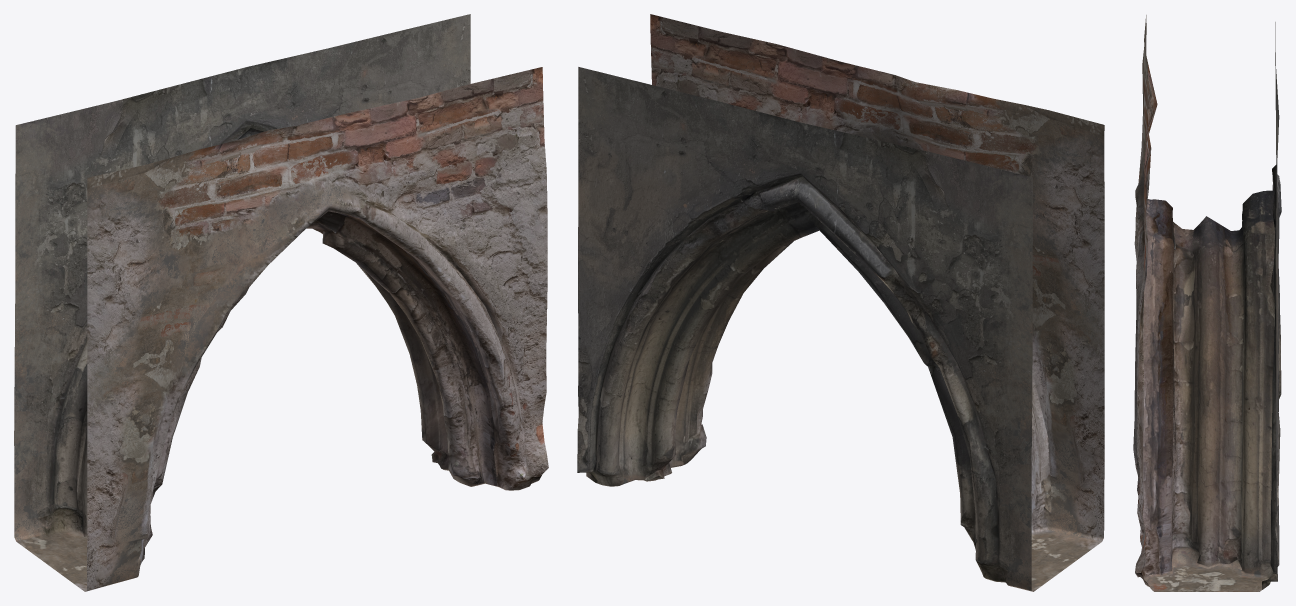
The model's file is SM_ChapelArch_01_05.fbx.
3 renders of one model, left to right at view 1: azimuth 30°, elevation 25°; view 2: azimuth 150°, elevation 25°; view 3: azimuth 270°, elevation 25°, orthographic. The views are drawn at different scales.
Parts seen in each view (by area): view 1: sm_ChapelArch_01_05_LOD0; view 2: sm_ChapelArch_01_05_LOD0; view 3: sm_ChapelArch_01_05_LOD0.
Part boxes in pixels (<box>): sm_ChapelArch_01_05_LOD0: <box>14,14,548,591</box>; sm_ChapelArch_01_05_LOD0: <box>577,14,1104,591</box>; sm_ChapelArch_01_05_LOD0: <box>1133,15,1281,591</box>.
Bounding box in the file's own units: 66.98 × 214 × 188.
